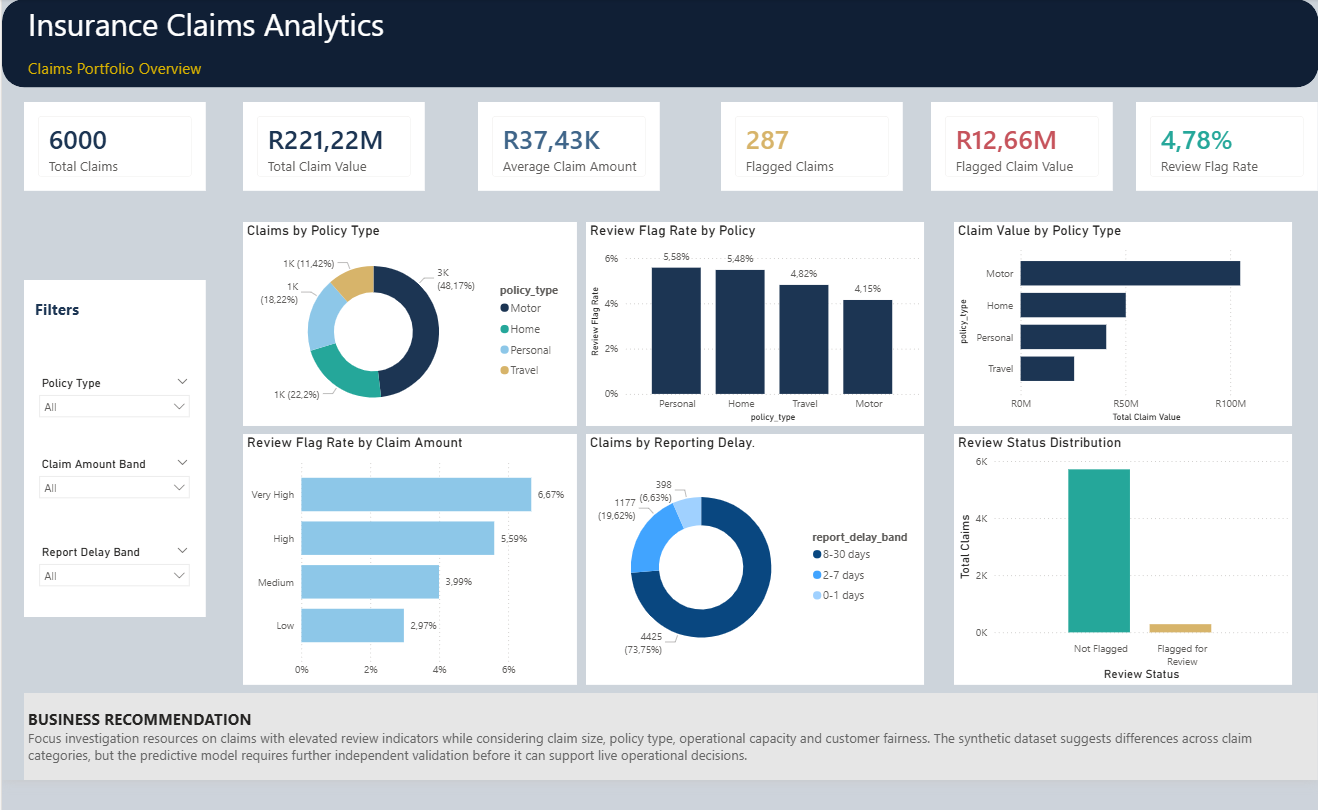

The dashboard page shown, as its layout file describes it:
{"tool":"powerbi","page":{"name":"Claims Portfolio Overview","canvas":[1600,950],"ordinal":0},"visuals":[{"type":"shape","box":[26.7,341.6,221.3,409.7],"z":0,"group":"g3"},{"type":"shape","box":[26.7,843.8,1573.3,105.8],"z":0,"group":"g1"},{"type":"shape","box":[0,0,1600.5,107.6],"z":1000,"group":"g2"},{"type":"cardVisual","fields":{"Data":["insurance_claims_clean.Total Claims"]},"box":[26.7,125.2,221.3,108.2],"z":1000},{"type":"slicer","fields":{"Values":["insurance_claims_clean.report_delay_band"]},"box":[35.2,658.9,203,75.4],"z":1000,"group":"g3"},{"type":"textbox","box":[26.9,0,531.2,62],"z":2000,"group":"g2"},{"type":"cardVisual","fields":{"Data":["insurance_claims_clean.Total Claim Value"]},"box":[293,125.2,221.3,108.2],"z":2000},{"type":"slicer","fields":{"Values":["insurance_claims_clean.claim_amount_band"]},"box":[35.2,551.9,203,75.4],"z":2000,"group":"g3"},{"type":"textbox","box":[26.9,65.5,234,42.1],"z":3000,"group":"g2"},{"type":"cardVisual","fields":{"Data":["cross_validation.Flagged Claims"]},"box":[874.2,125.2,221.3,108.2],"z":3000},{"type":"slicer","fields":{"Values":["insurance_claims_clean.policy_type"]},"box":[35.2,453.5,203,75.4],"z":3000,"group":"g3"},{"type":"cardVisual","fields":{"Data":["cross_validation.Average Claim Amount"]},"box":[578.7,125.2,221.3,108.2],"z":4000},{"type":"textbox","box":[35.2,358.6,212.8,40.1],"z":4000,"group":"g3"},{"type":"cardVisual","fields":{"Data":["cross_validation.Review Flag Rate"]},"box":[1378.7,125.2,221.3,108.2],"z":5000},{"type":"cardVisual","fields":{"Data":["cross_validation.Flagged Claim Value"]},"box":[1129.5,125.2,221.3,108.2],"z":6000},{"type":"donutChart","title":"Claims by Policy Type","fields":{"Category":["insurance_claims_clean.policy_type"],"Y":["insurance_claims_clean.Total Claims"]},"box":[293,271.1,406.1,248],"z":10000},{"type":"clusteredColumnChart","title":"Review Flag Rate by Policy","fields":{"Category":["insurance_claims_clean.policy_type"],"Y":["cross_validation.Review Flag Rate"]},"box":[710,271.1,410.9,248],"z":11000},{"type":"clusteredBarChart","title":"Claim Value by Policy Type","fields":{"Category":["insurance_claims_clean.policy_type"],"Y":["insurance_claims_clean.Total Claim Value"]},"box":[1157.4,271.1,410.9,248],"z":12000},{"type":"clusteredBarChart","title":"Review Flag Rate by Claim Amount","fields":{"Category":["insurance_claims_clean.claim_amount_band"],"Y":["cross_validation.Review Flag Rate"]},"box":[293,528.9,406.1,305.2],"z":13000},{"type":"donutChart","title":"Claims by Reporting Delay.","fields":{"Category":["insurance_claims_clean.report_delay_band"],"Y":["insurance_claims_clean.Total Claims"]},"box":[710,528.9,410.9,305.2],"z":14000},{"type":"clusteredColumnChart","title":"Review Status Distribution","fields":{"Category":["insurance_claims_clean.Review Status"],"Y":["insurance_claims_clean.Total Claims"]},"box":[1157.4,528.9,410.9,305.2],"z":15000},{"type":"group","id":"g1","title":"Group 1","box":[26.7,843.8,1573.3,105.8],"z":16000},{"type":"group","id":"g2","title":"Group 2","box":[0,0,1600.5,107.6],"z":17000},{"type":"group","id":"g3","title":"Group 3","box":[26.7,341.6,221.3,409.7],"z":18502},{"type":"textbox","box":[26.7,857.2,1573.3,79],"z":19000,"group":"g1"}]}

Visuals, with their boxes on the page's 1600x950 design canvas (x1, y1, x2, y2). These are canvas units, not pixel positions in the 1318x810 screenshot, which may show the page scaled, cropped or inside an application window:
shape: (x1=27, y1=342, x2=248, y2=751)
shape: (x1=27, y1=844, x2=1600, y2=950)
shape: (x1=0, y1=0, x2=1600, y2=108)
cardVisual - insurance_claims_clean.Total Claims: (x1=27, y1=125, x2=248, y2=233)
slicer - insurance_claims_clean.report_delay_band: (x1=35, y1=659, x2=238, y2=734)
textbox: (x1=27, y1=0, x2=558, y2=62)
cardVisual - insurance_claims_clean.Total Claim Value: (x1=293, y1=125, x2=514, y2=233)
slicer - insurance_claims_clean.claim_amount_band: (x1=35, y1=552, x2=238, y2=627)
textbox: (x1=27, y1=66, x2=261, y2=108)
cardVisual - cross_validation.Flagged Claims: (x1=874, y1=125, x2=1096, y2=233)
slicer - insurance_claims_clean.policy_type: (x1=35, y1=454, x2=238, y2=529)
cardVisual - cross_validation.Average Claim Amount: (x1=579, y1=125, x2=800, y2=233)
textbox: (x1=35, y1=359, x2=248, y2=399)
cardVisual - cross_validation.Review Flag Rate: (x1=1379, y1=125, x2=1600, y2=233)
cardVisual - cross_validation.Flagged Claim Value: (x1=1130, y1=125, x2=1351, y2=233)
"Claims by Policy Type" donutChart: (x1=293, y1=271, x2=699, y2=519)
"Review Flag Rate by Policy" clusteredColumnChart: (x1=710, y1=271, x2=1121, y2=519)
"Claim Value by Policy Type" clusteredBarChart: (x1=1157, y1=271, x2=1568, y2=519)
"Review Flag Rate by Claim Amount" clusteredBarChart: (x1=293, y1=529, x2=699, y2=834)
"Claims by Reporting Delay." donutChart: (x1=710, y1=529, x2=1121, y2=834)
"Review Status Distribution" clusteredColumnChart: (x1=1157, y1=529, x2=1568, y2=834)
"Group 1" group: (x1=27, y1=844, x2=1600, y2=950)
"Group 2" group: (x1=0, y1=0, x2=1600, y2=108)
"Group 3" group: (x1=27, y1=342, x2=248, y2=751)
textbox: (x1=27, y1=857, x2=1600, y2=936)
